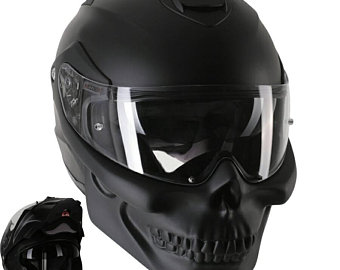with_helmet: (48, 1, 302, 270), (1, 193, 90, 270)
